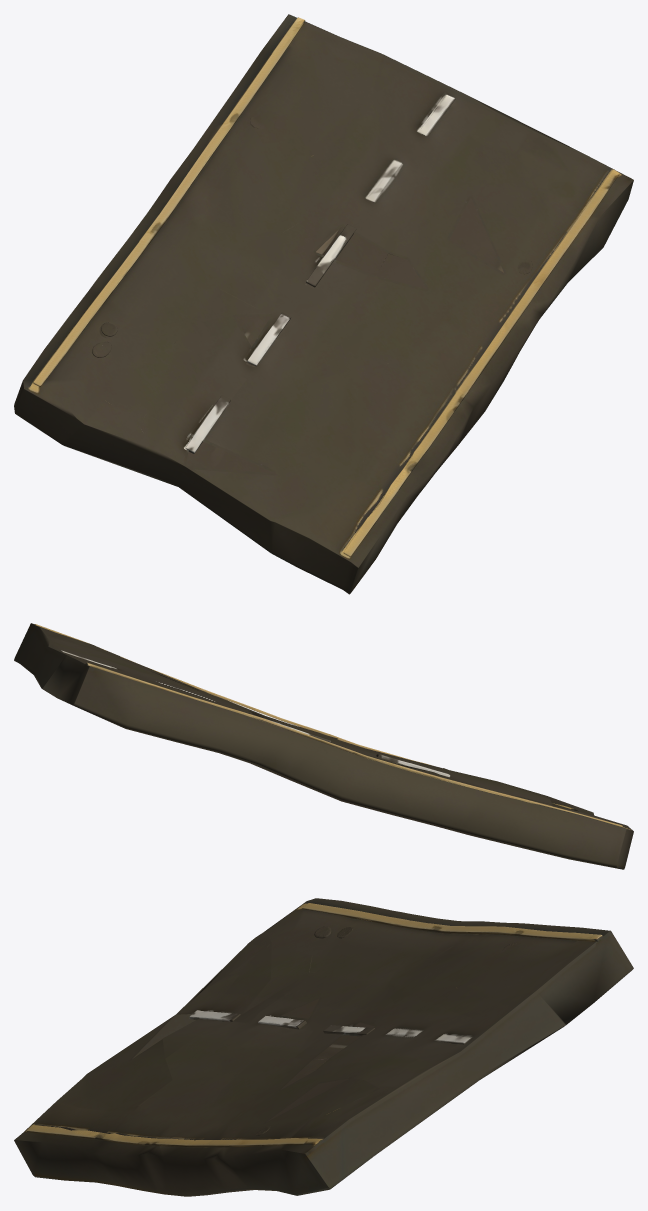
The model's file is road+segment+3d+model.fbx.
3 renders of one model, top to bottom at view 1: azimuth 30°, elevation 25°; view 2: azimuth 150°, elevation 25°; view 3: azimuth 270°, elevation 25°, orthographic. The views are drawn at different scales.
Parts seen in each view (by area): view 1: tripo_10a41013_3a75_4bb7_9fb2_19b8515b00ca; view 2: tripo_10a41013_3a75_4bb7_9fb2_19b8515b00ca; view 3: tripo_10a41013_3a75_4bb7_9fb2_19b8515b00ca.
Part boxes in pixels (bbox=[...]): tripo_10a41013_3a75_4bb7_9fb2_19b8515b00ca: bbox=[14, 14, 633, 594]; tripo_10a41013_3a75_4bb7_9fb2_19b8515b00ca: bbox=[14, 623, 633, 869]; tripo_10a41013_3a75_4bb7_9fb2_19b8515b00ca: bbox=[14, 898, 633, 1196].
Size of the model in its own units: 0.9995 by 0.5161 by 0.8169.
1 material, 1 textured.
